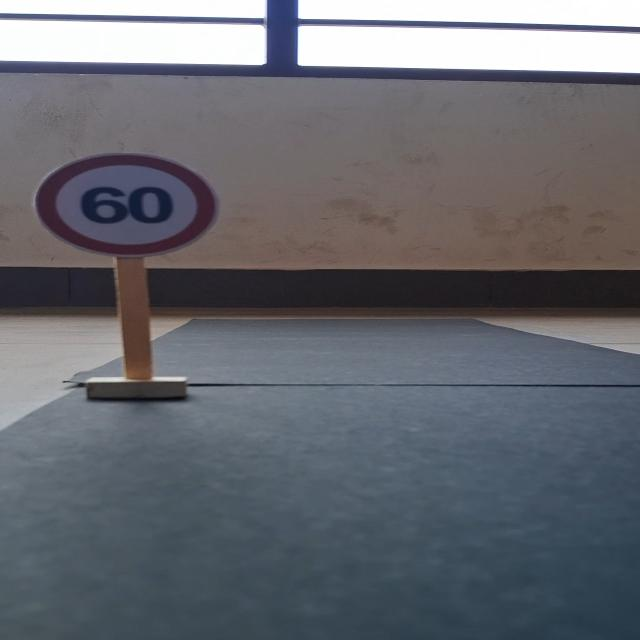Speed60: (26, 150, 228, 258)
